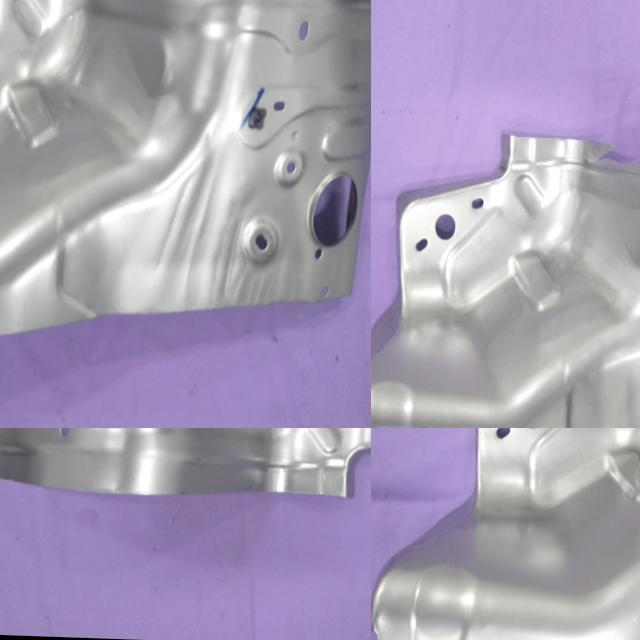Defect: (586, 139, 640, 189)
Healthy: (0, 0, 371, 372), (0, 428, 371, 511)
